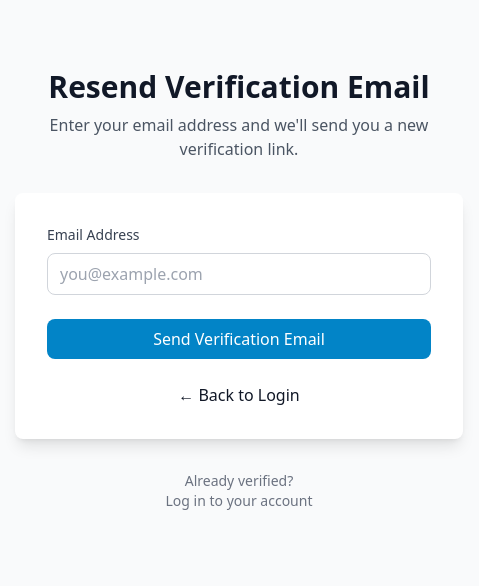
Test case: ResendVerificationPage › should send verification email on form submit
This screenshot has width=479, height=586.
Type "test@example.com" into the field labelled "Email Address". click: (239, 274)
box: left=47, top=253, right=431, bottom=295
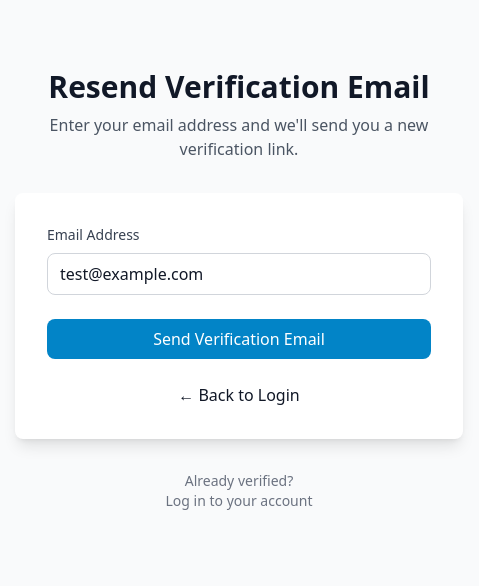
Click the button "Send Verification Email". click: (239, 339)
box: left=47, top=319, right=431, bottom=359
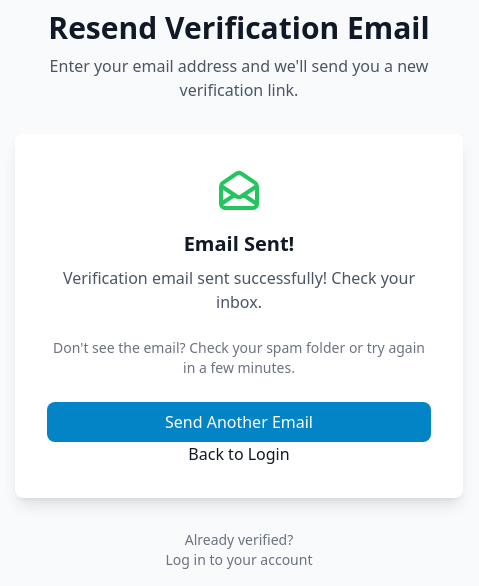
Now the heading "Email Sent!" is shown, box left=184, top=230, right=294, bottom=257
Now the text "Verification email sent successfully! Check your inbox." is shown, box left=47, top=266, right=431, bottom=314
